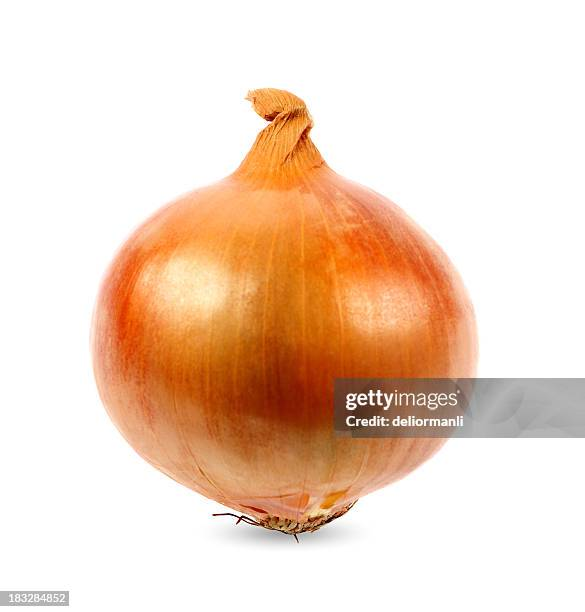onion: (91, 91, 480, 539)
